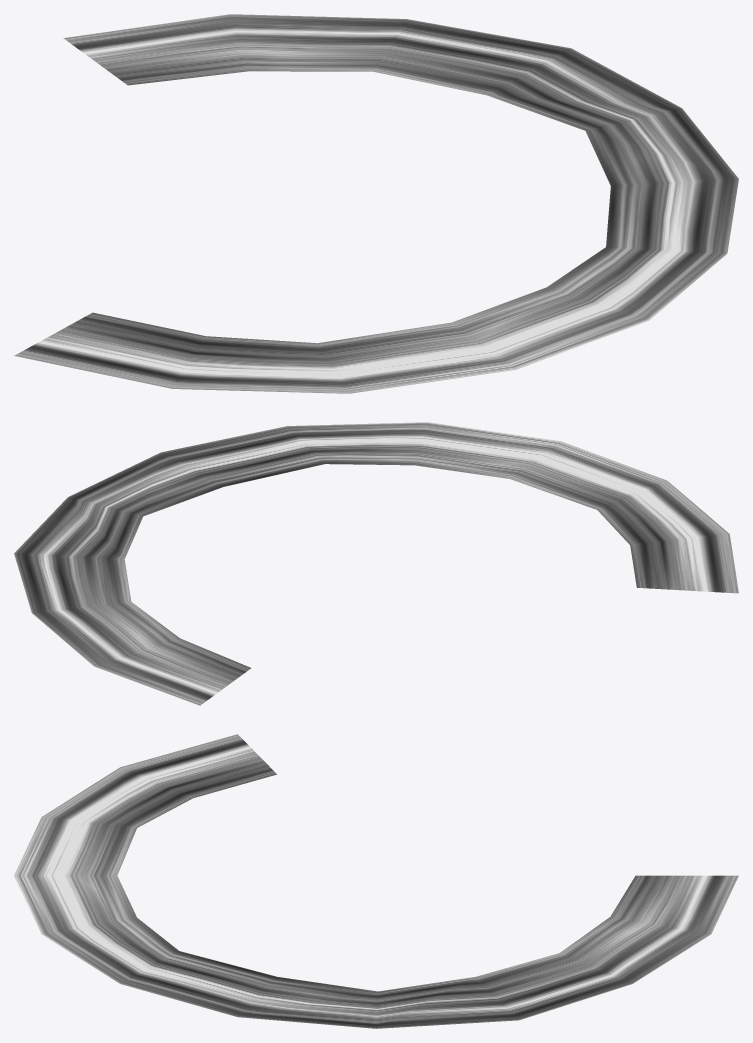
File: PlayerAtk_2 vfxmodel.fbx
3 renders of one model, top to bottom at view 1: azimuth 30°, elevation 25°; view 2: azimuth 150°, elevation 25°; view 3: azimuth 270°, elevation 25°, orthographic. The views are drawn at different scales.
Parts seen in each view (by area): view 1: Slash2_Mesh; view 2: Slash2_Mesh; view 3: Slash2_Mesh.
Part boxes in pixels (x1,y1,x2,y2): Slash2_Mesh: (14, 14, 738, 393); Slash2_Mesh: (14, 422, 738, 705); Slash2_Mesh: (14, 734, 738, 1028).
Size of the model in its own units: 5.27 by 5.96e-08 by 5.48.
